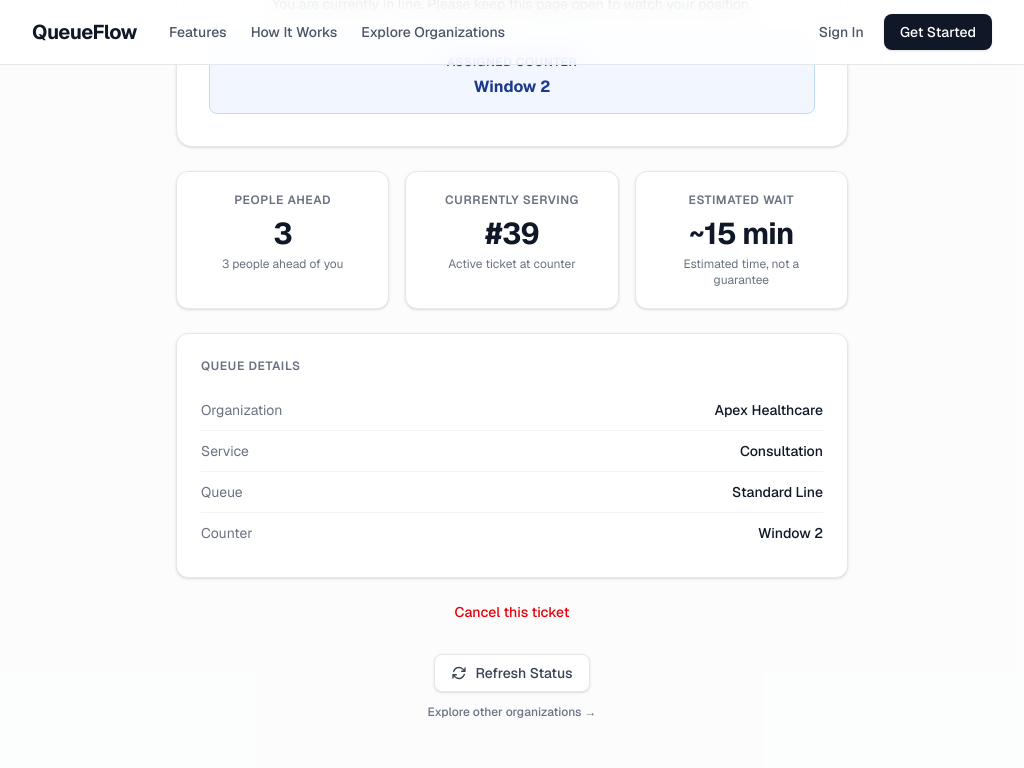
Test case: app/tickets/track/[trackingToken]/page (Public Ticket Tracking) › Ticket Cancellation Workflow › opens confirmation dialog and allows dismissing via Keep My Place without sending request
(page scrolled)
Click the button "Cancel this ticket". click: click(512, 612)
box: [454,602,569,622]
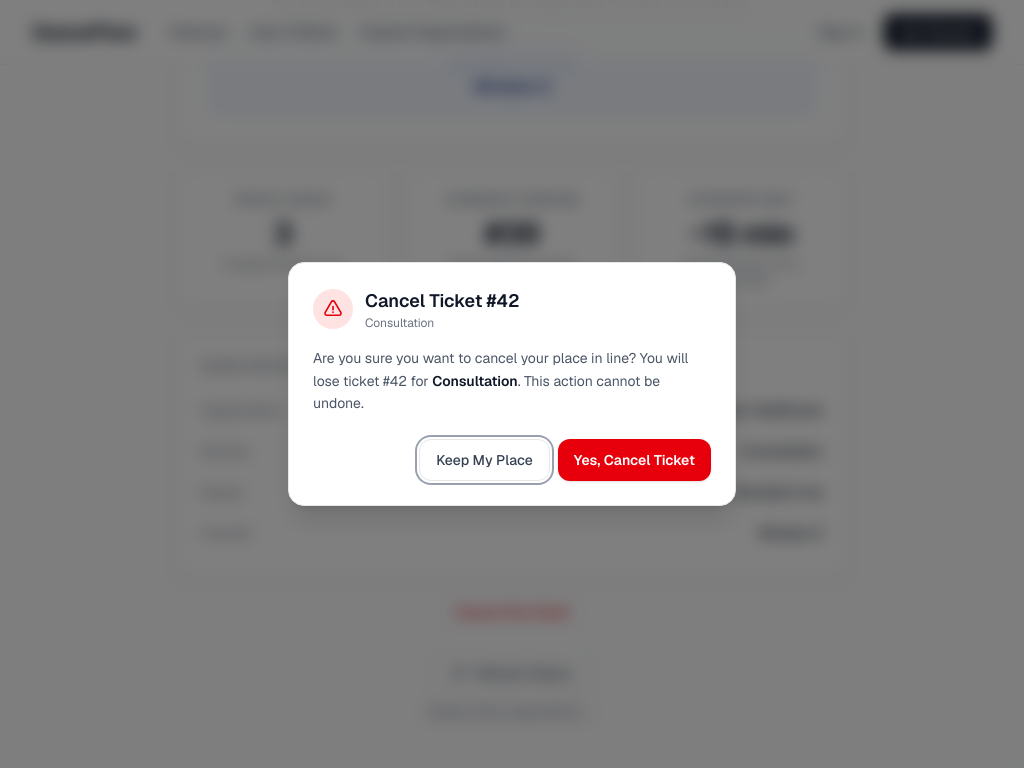
Check: the dialog is shown, box [288,262,736,506]
Check: the heading "Cancel Ticket #42" is shown, box [365,287,520,315]
Click the button "Keep My Place". click: click(485, 460)
box: [419,439,550,481]
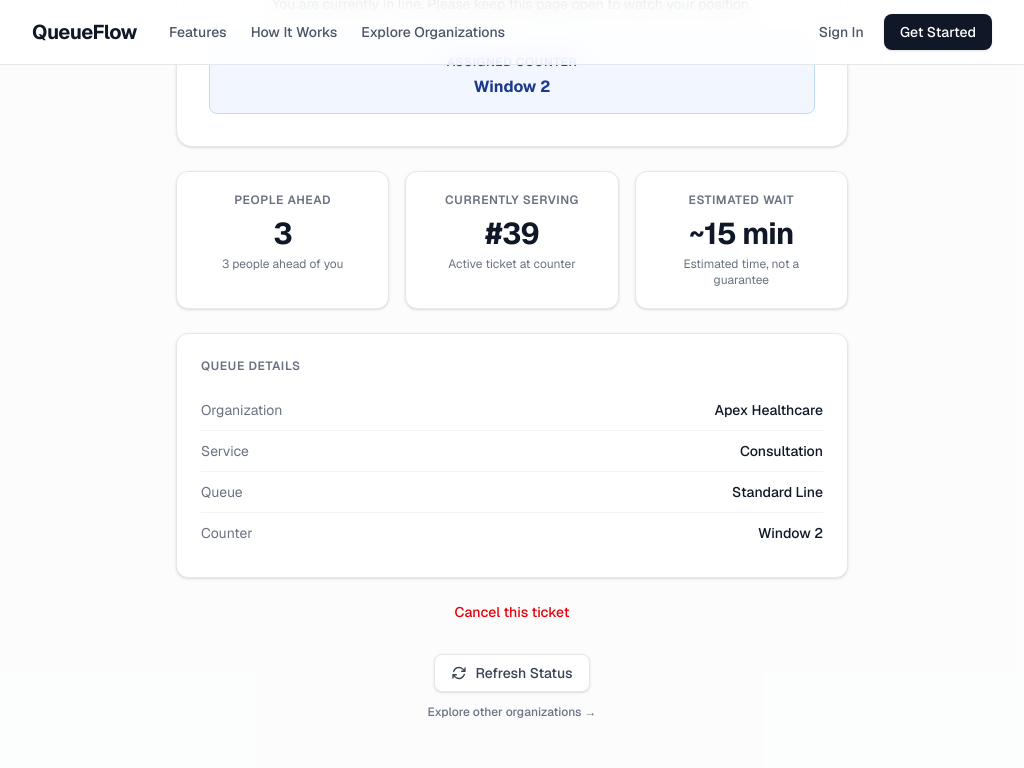
Check: the dialog is gone
